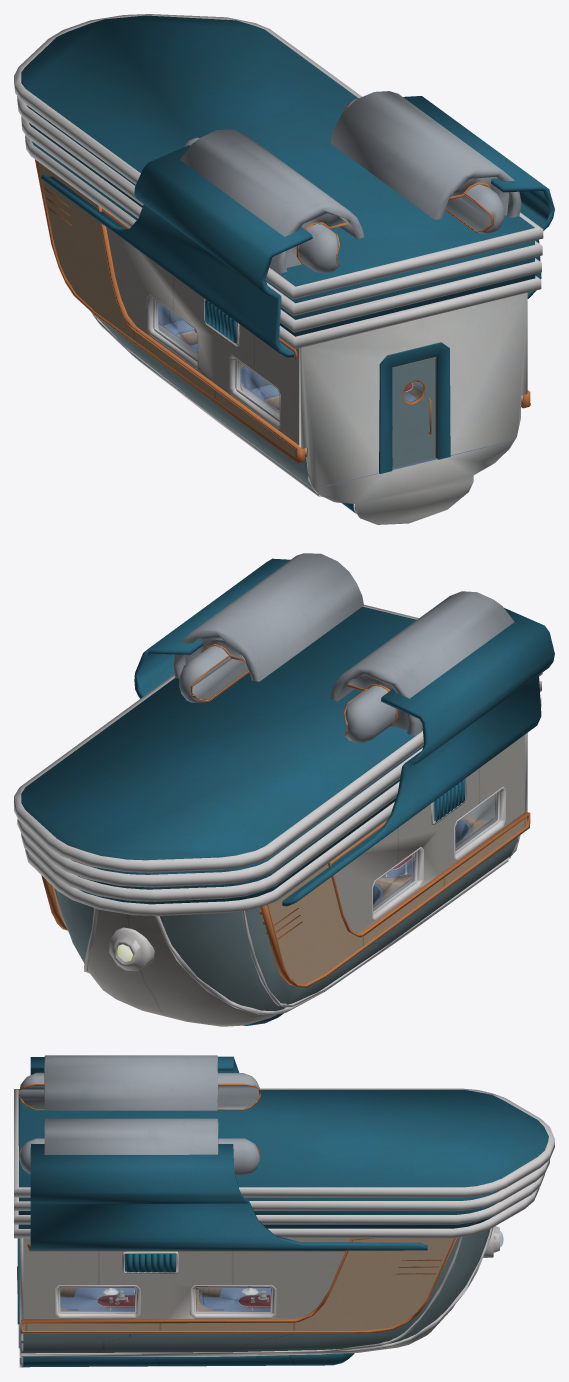
File: cargo_train.glb
3 views of the same model, one above another, from view 1: azimuth 30°, elevation 25°; view 2: azimuth 150°, elevation 25°; view 3: azimuth 270°, elevation 25° (orthographic). The views are drawn at different scales.
Parts seen in each view (by area): view 1: KB3D_ATP_VehicTrain_A_CarA, KB3D_ATP_VehicTrain_A_CarADoor, KB3D_ATP_VehicTrain_A_CarA_transparent, KB3D_ATP_VehicTrain_A_CarABoothA, KB3D_ATP_VehicTrain_A_CarABoothC; view 2: KB3D_ATP_VehicTrain_A_CarA, KB3D_ATP_VehicTrain_A_CarA_transparent, KB3D_ATP_VehicTrain_A_CarABoothA; view 3: KB3D_ATP_VehicTrain_A_CarA, KB3D_ATP_VehicTrain_A_CarA_transparent, KB3D_ATP_VehicTrain_A_CarATableB, KB3D_ATP_VehicTrain_A_CarATableD.
Boxes of the visible parts, left/top/right/bottom form: KB3D_ATP_VehicTrain_A_CarA: left=14, top=14, right=554, bottom=524; KB3D_ATP_VehicTrain_A_CarADoor: left=392, top=357, right=436, bottom=468; KB3D_ATP_VehicTrain_A_CarA_transparent: left=155, top=301, right=279, bottom=419; KB3D_ATP_VehicTrain_A_CarABoothA: left=240, top=363, right=279, bottom=413; KB3D_ATP_VehicTrain_A_CarABoothC: left=158, top=303, right=197, bottom=353; KB3D_ATP_VehicTrain_A_CarA: left=14, top=553, right=554, bottom=1026; KB3D_ATP_VehicTrain_A_CarA_transparent: left=115, top=793, right=497, bottom=963; KB3D_ATP_VehicTrain_A_CarABoothA: left=378, top=816, right=487, bottom=885; KB3D_ATP_VehicTrain_A_CarA: left=14, top=1055, right=554, bottom=1367; KB3D_ATP_VehicTrain_A_CarA_transparent: left=60, top=1231, right=503, bottom=1311; KB3D_ATP_VehicTrain_A_CarATableB: left=96, top=1290, right=134, bottom=1310; KB3D_ATP_VehicTrain_A_CarATableD: left=238, top=1290, right=270, bottom=1310.
Size of the model in its own units: 4.4 by 4.63 by 8.49.
21 materials, 21 textured.
